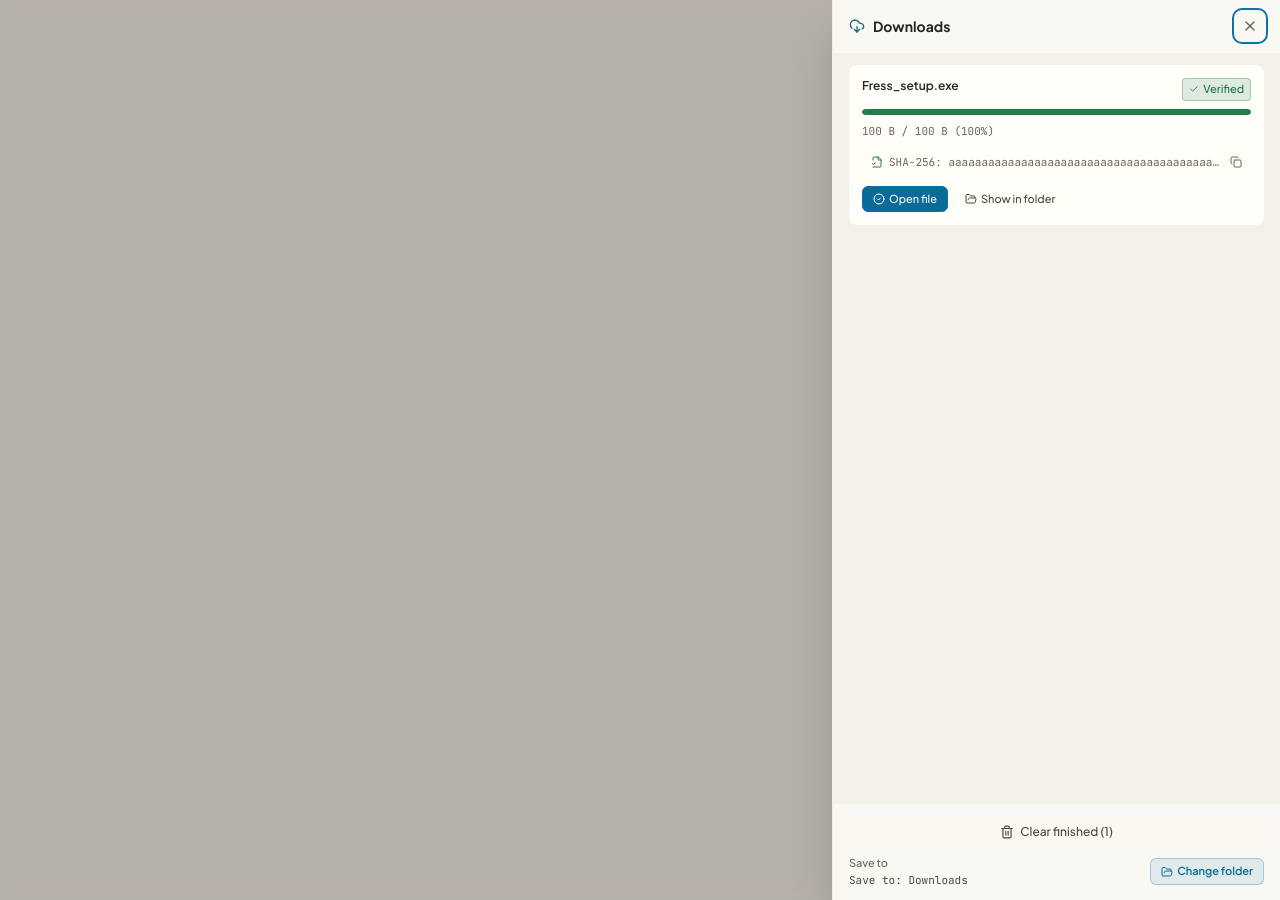
Test: download SHA row label-in-name › copying still shows honest localized feedback inside the same button
Click the button named "Copy SHA-256 hash: Fress_setup.exe".
click(1056, 162)  # box [862,149,1251,176]
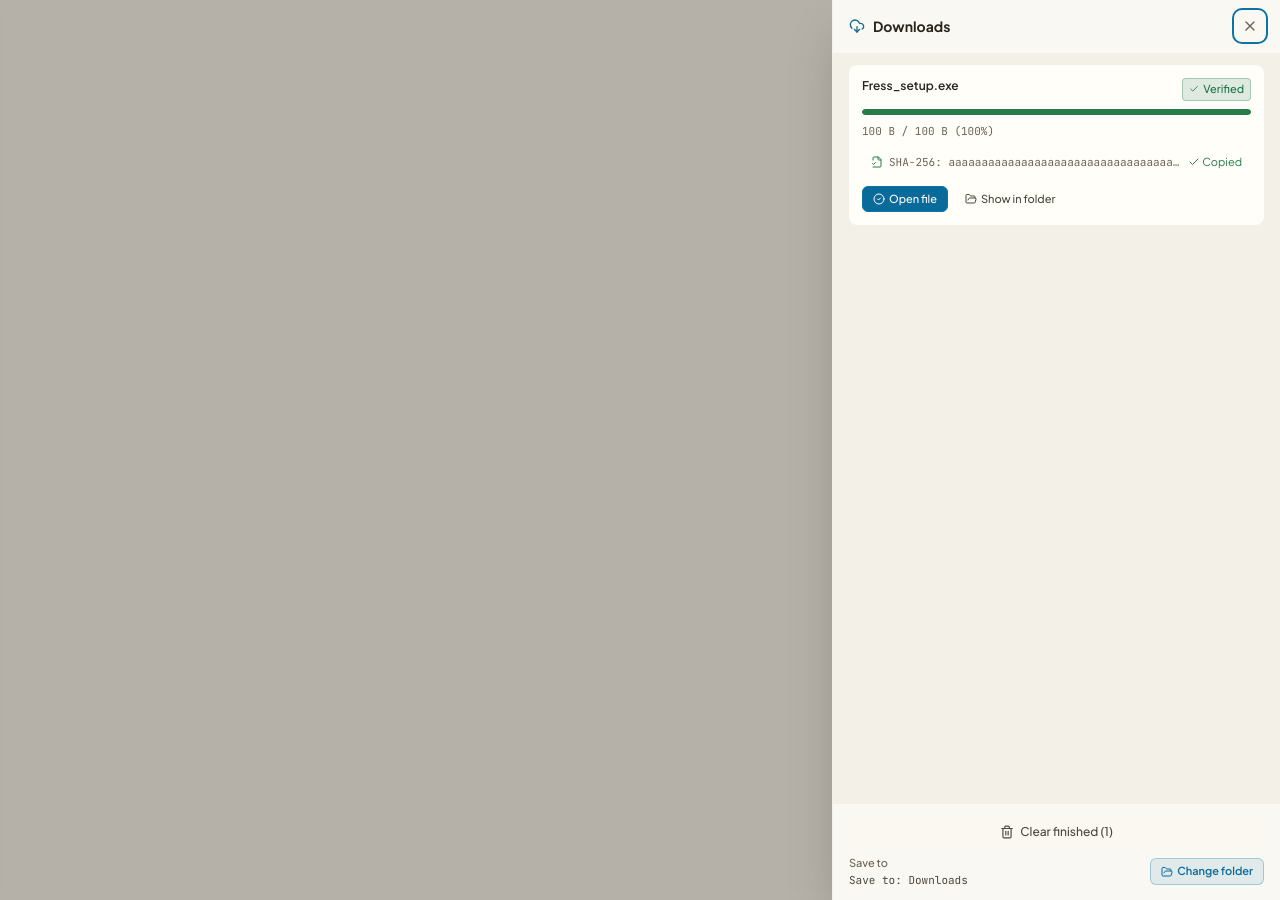
Now the button named "Copy SHA-256 hash: Fress_setup.exe" shows "Copied", box [862,149,1251,176]
